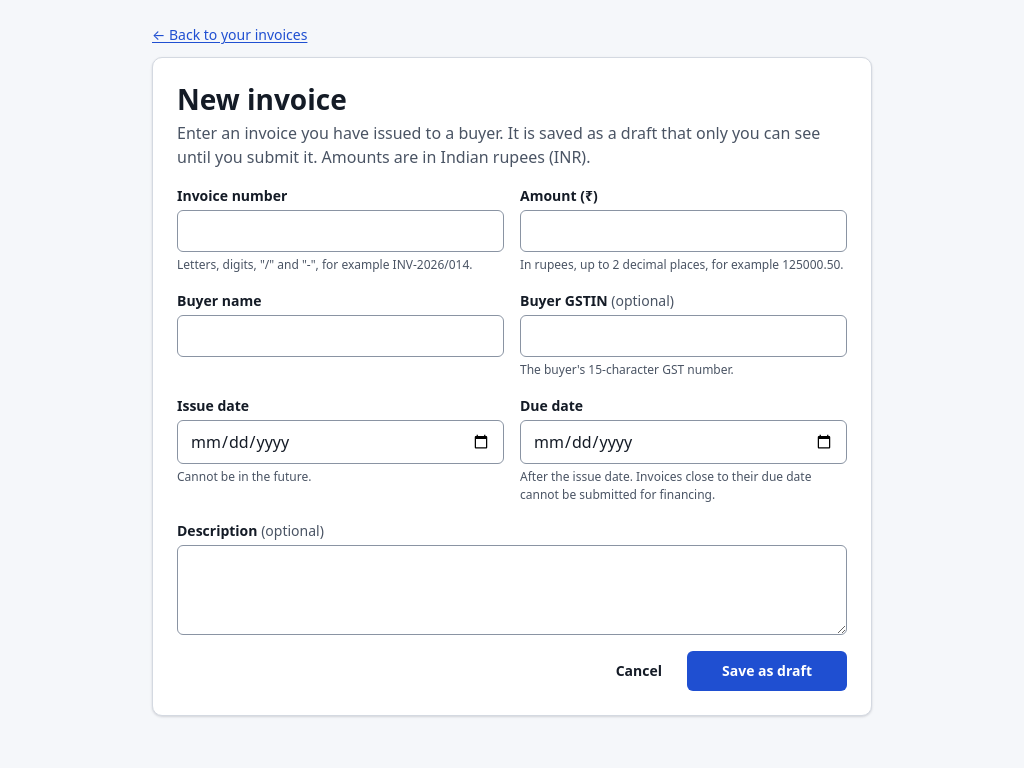
Scenario: InvoiceCreateComponent › explains every missing required field, focuses the first and sends nothing
The width and height of the screenshot is (1024, 768).
Click the submit button.
click(767, 671)  # box [687, 651, 847, 691]
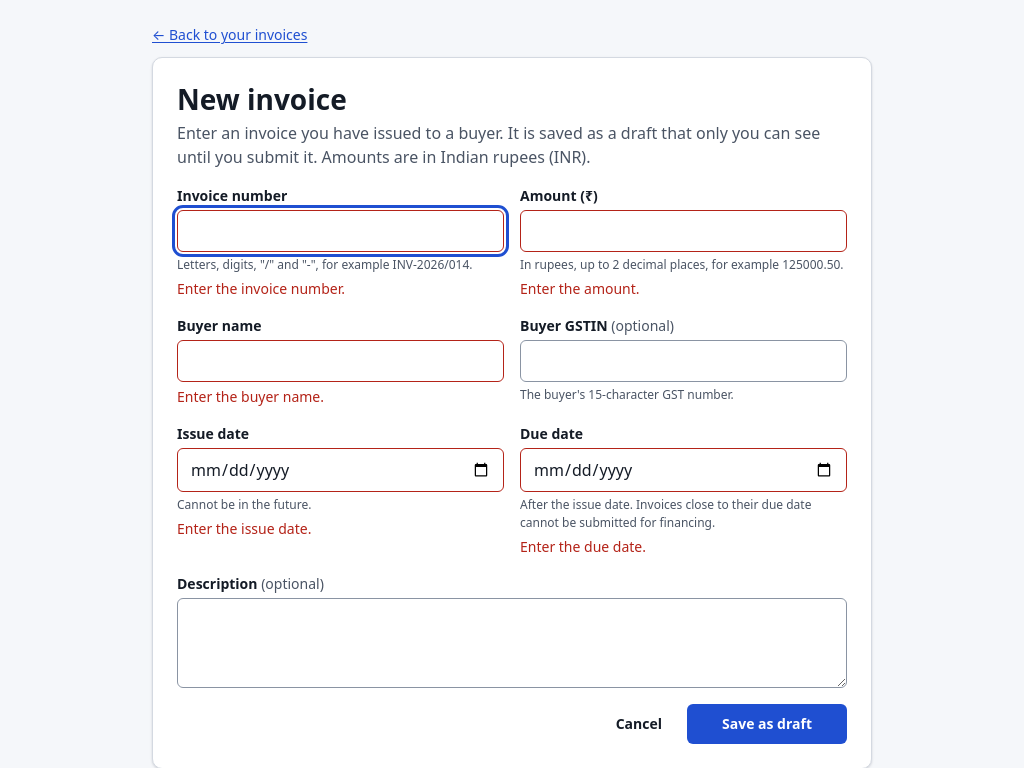
Check: the text "Enter the invoice number." is shown, box [177, 279, 345, 298]
Check: the text "Enter the buyer name." is shown, box [177, 387, 324, 406]
Check: the text "Enter the amount." is shown, box [520, 279, 640, 298]
